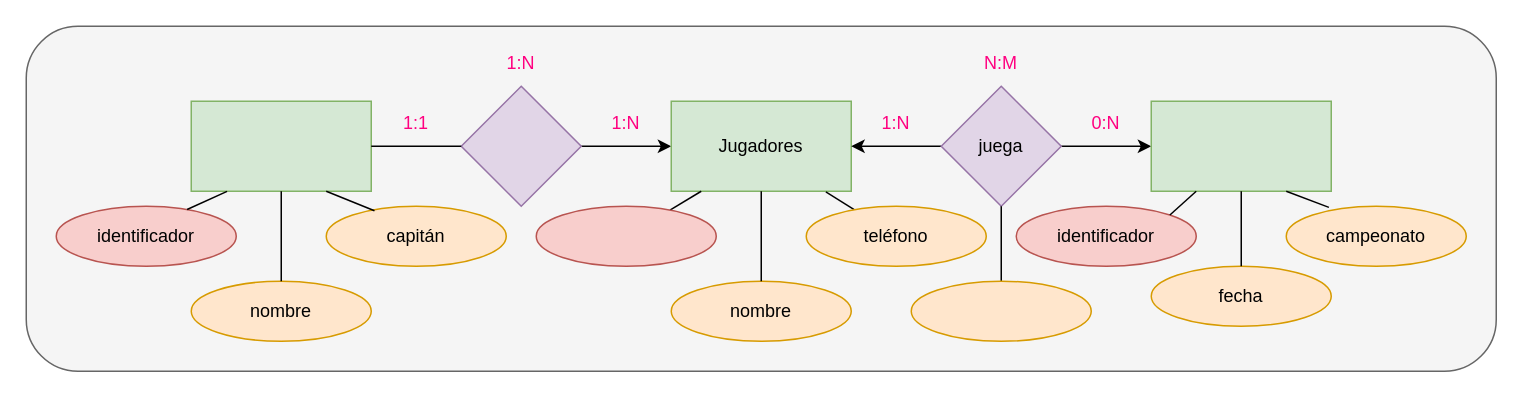
Some shapes in this 1523 by 398 pixel diagram are drawn without their labels. Each missing label, with the centre of its shape:
Equipos: the point at 280,145
id_jugador: the point at 625,235
Partido: the point at 1240,145
posición: the point at 1000,310
tiene: the point at 520,145
